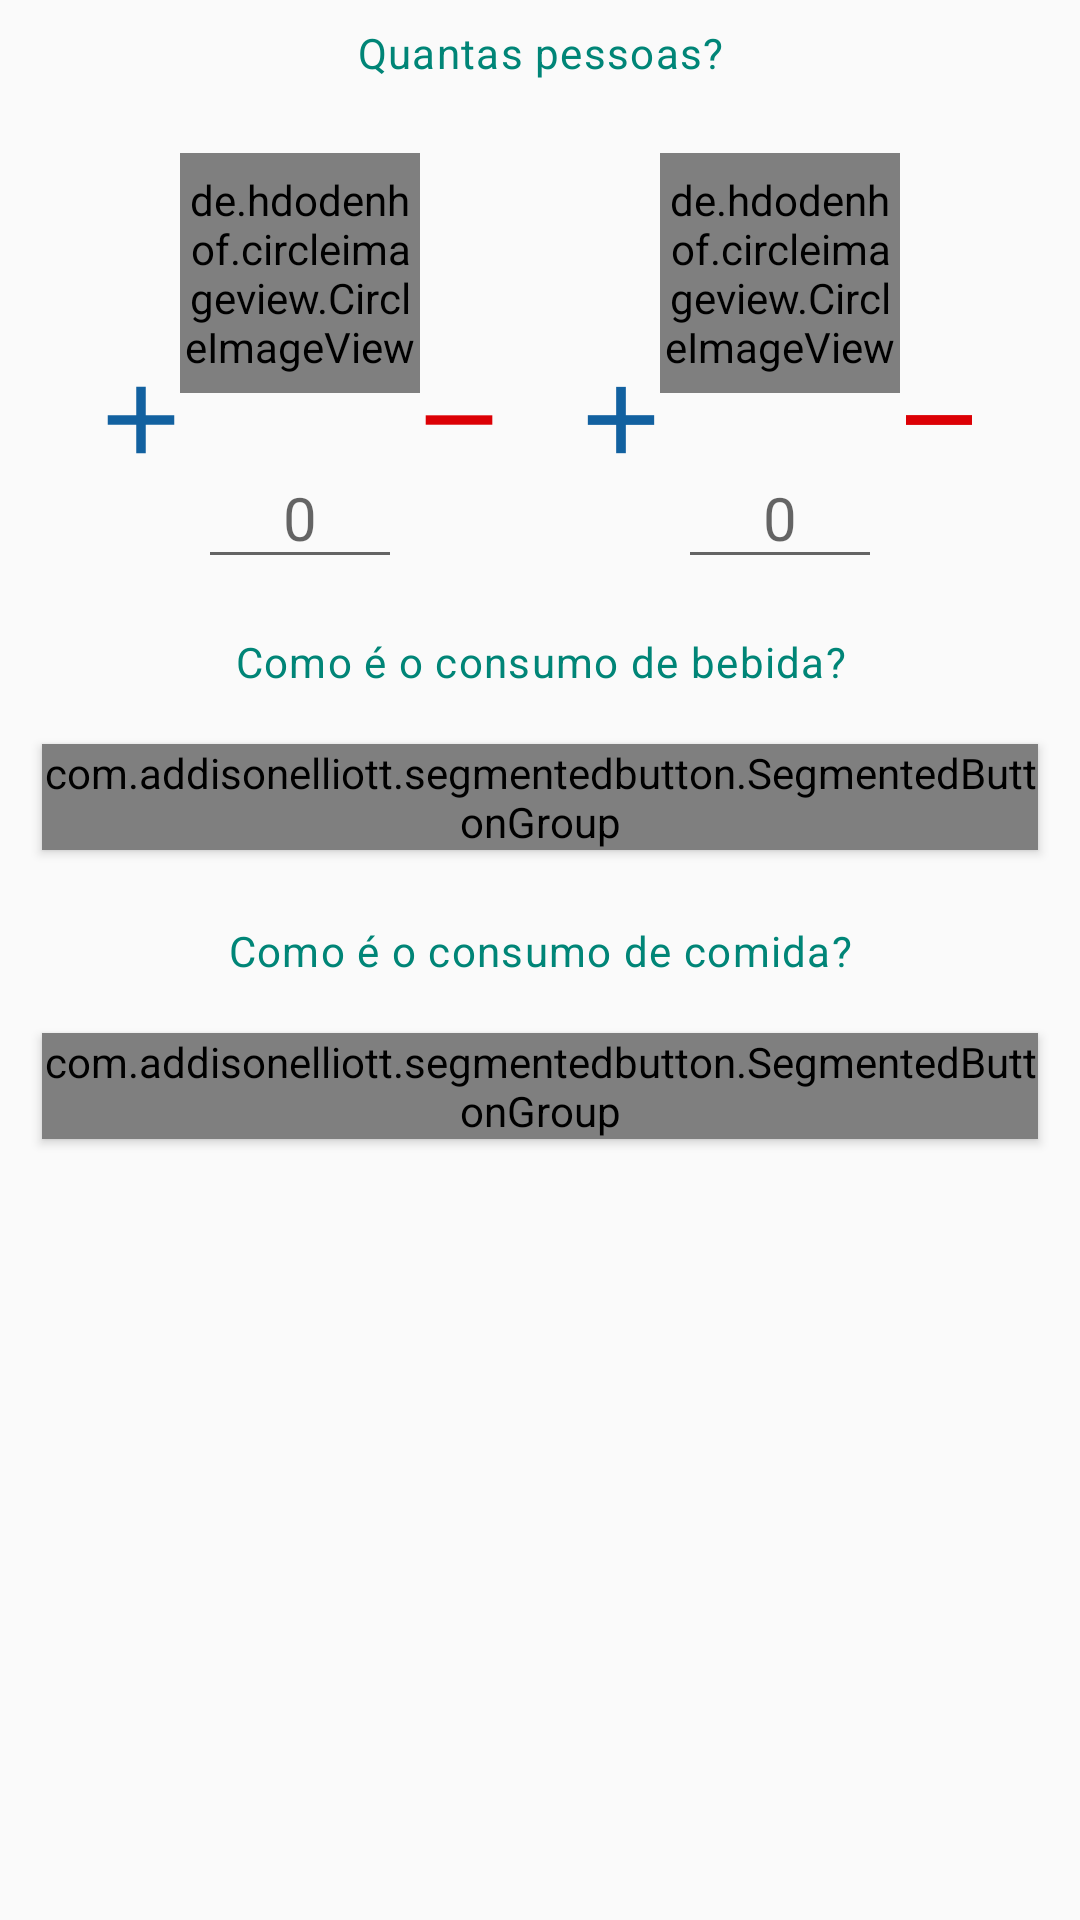

Locate icon controls on the screen. Image size 1080 × 1920, boxes as (x1, y1, x2, y2).
add: (107, 386, 175, 454), (587, 386, 655, 454)
